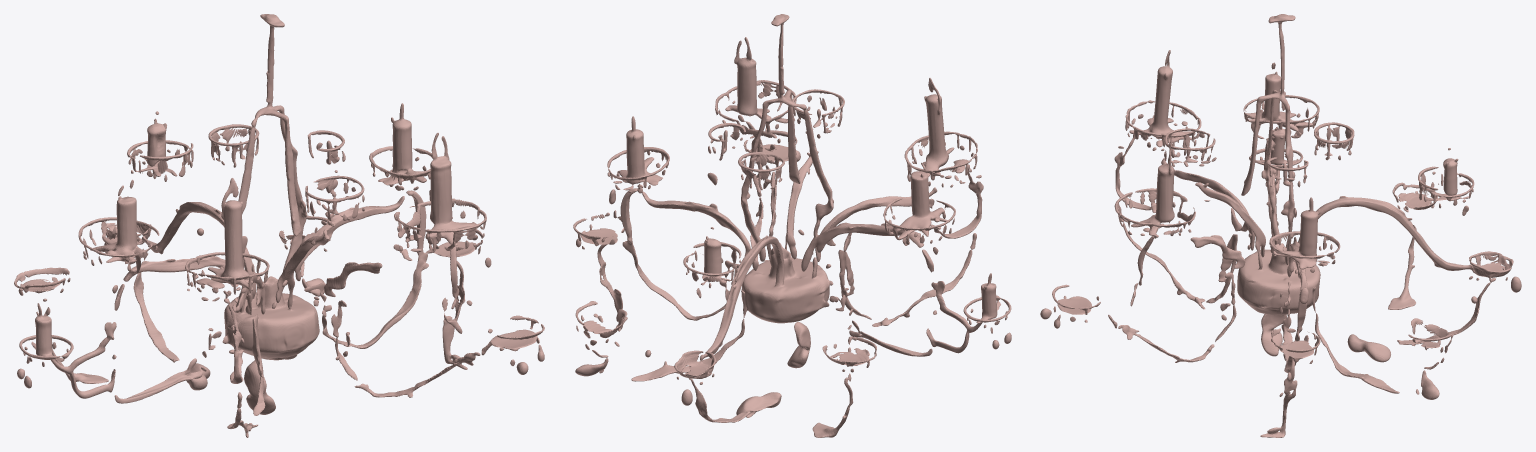
Rendered from chandelier_01.glb.
3 renders of one model, left to right at view 1: azimuth 30°, elevation 25°; view 2: azimuth 150°, elevation 25°; view 3: azimuth 270°, elevation 25°, orthographic. The views are drawn at different scales.
Visible parts, largest first — view 1: world; view 2: world; view 3: world.
Part boxes in pixels (left/top/right/bottom): world: left=14, top=14, right=544, bottom=437; world: left=573, top=14, right=1011, bottom=437; world: left=1040, top=14, right=1521, bottom=437.
Size of the model in its own units: 1.99 by 1.59 by 1.98.
